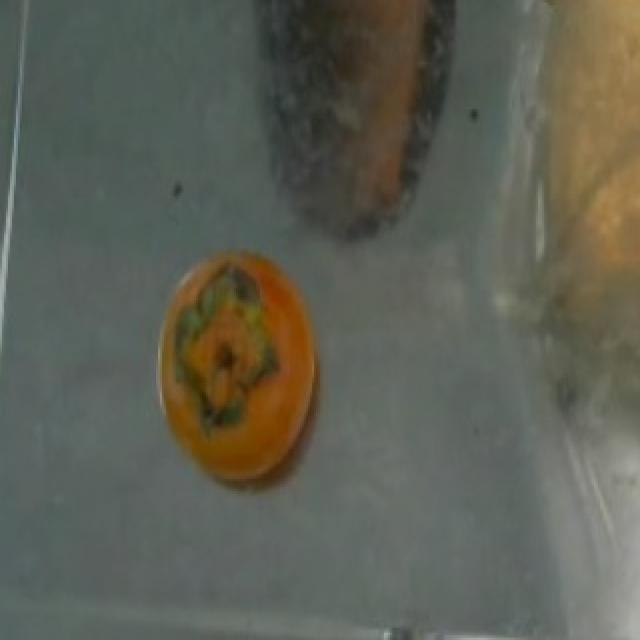Fruit: (148, 243, 342, 504), (256, 0, 472, 67)
